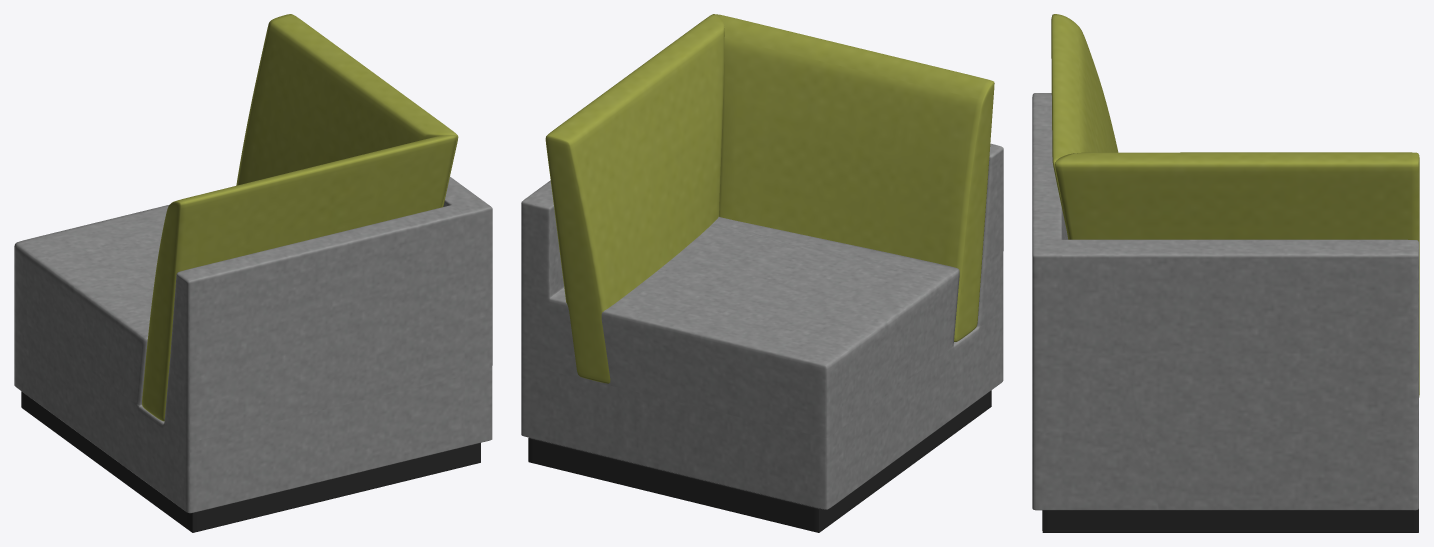
The picture shows the model from 3 angles, left to right: view 1: azimuth 30°, elevation 25°; view 2: azimuth 150°, elevation 25°; view 3: azimuth 270°, elevation 25°; orthographic projection. The views are drawn at different scales.
Parts seen in each view (by area): view 1: Fabric, Base; view 2: Fabric, Base; view 3: Fabric, Base.
Part boxes in pixels (left/top/right/bottom): Fabric: left=14, top=14, right=492, bottom=513; Base: left=21, top=391, right=480, bottom=532; Fabric: left=521, top=14, right=1003, bottom=509; Base: left=528, top=390, right=991, bottom=532; Fabric: left=1032, top=14, right=1419, bottom=510; Base: left=1042, top=509, right=1418, bottom=532.
Size of the model in its own units: 76.5 by 78.93 by 76.64.
Materials: 3 (2 with a texture image).
